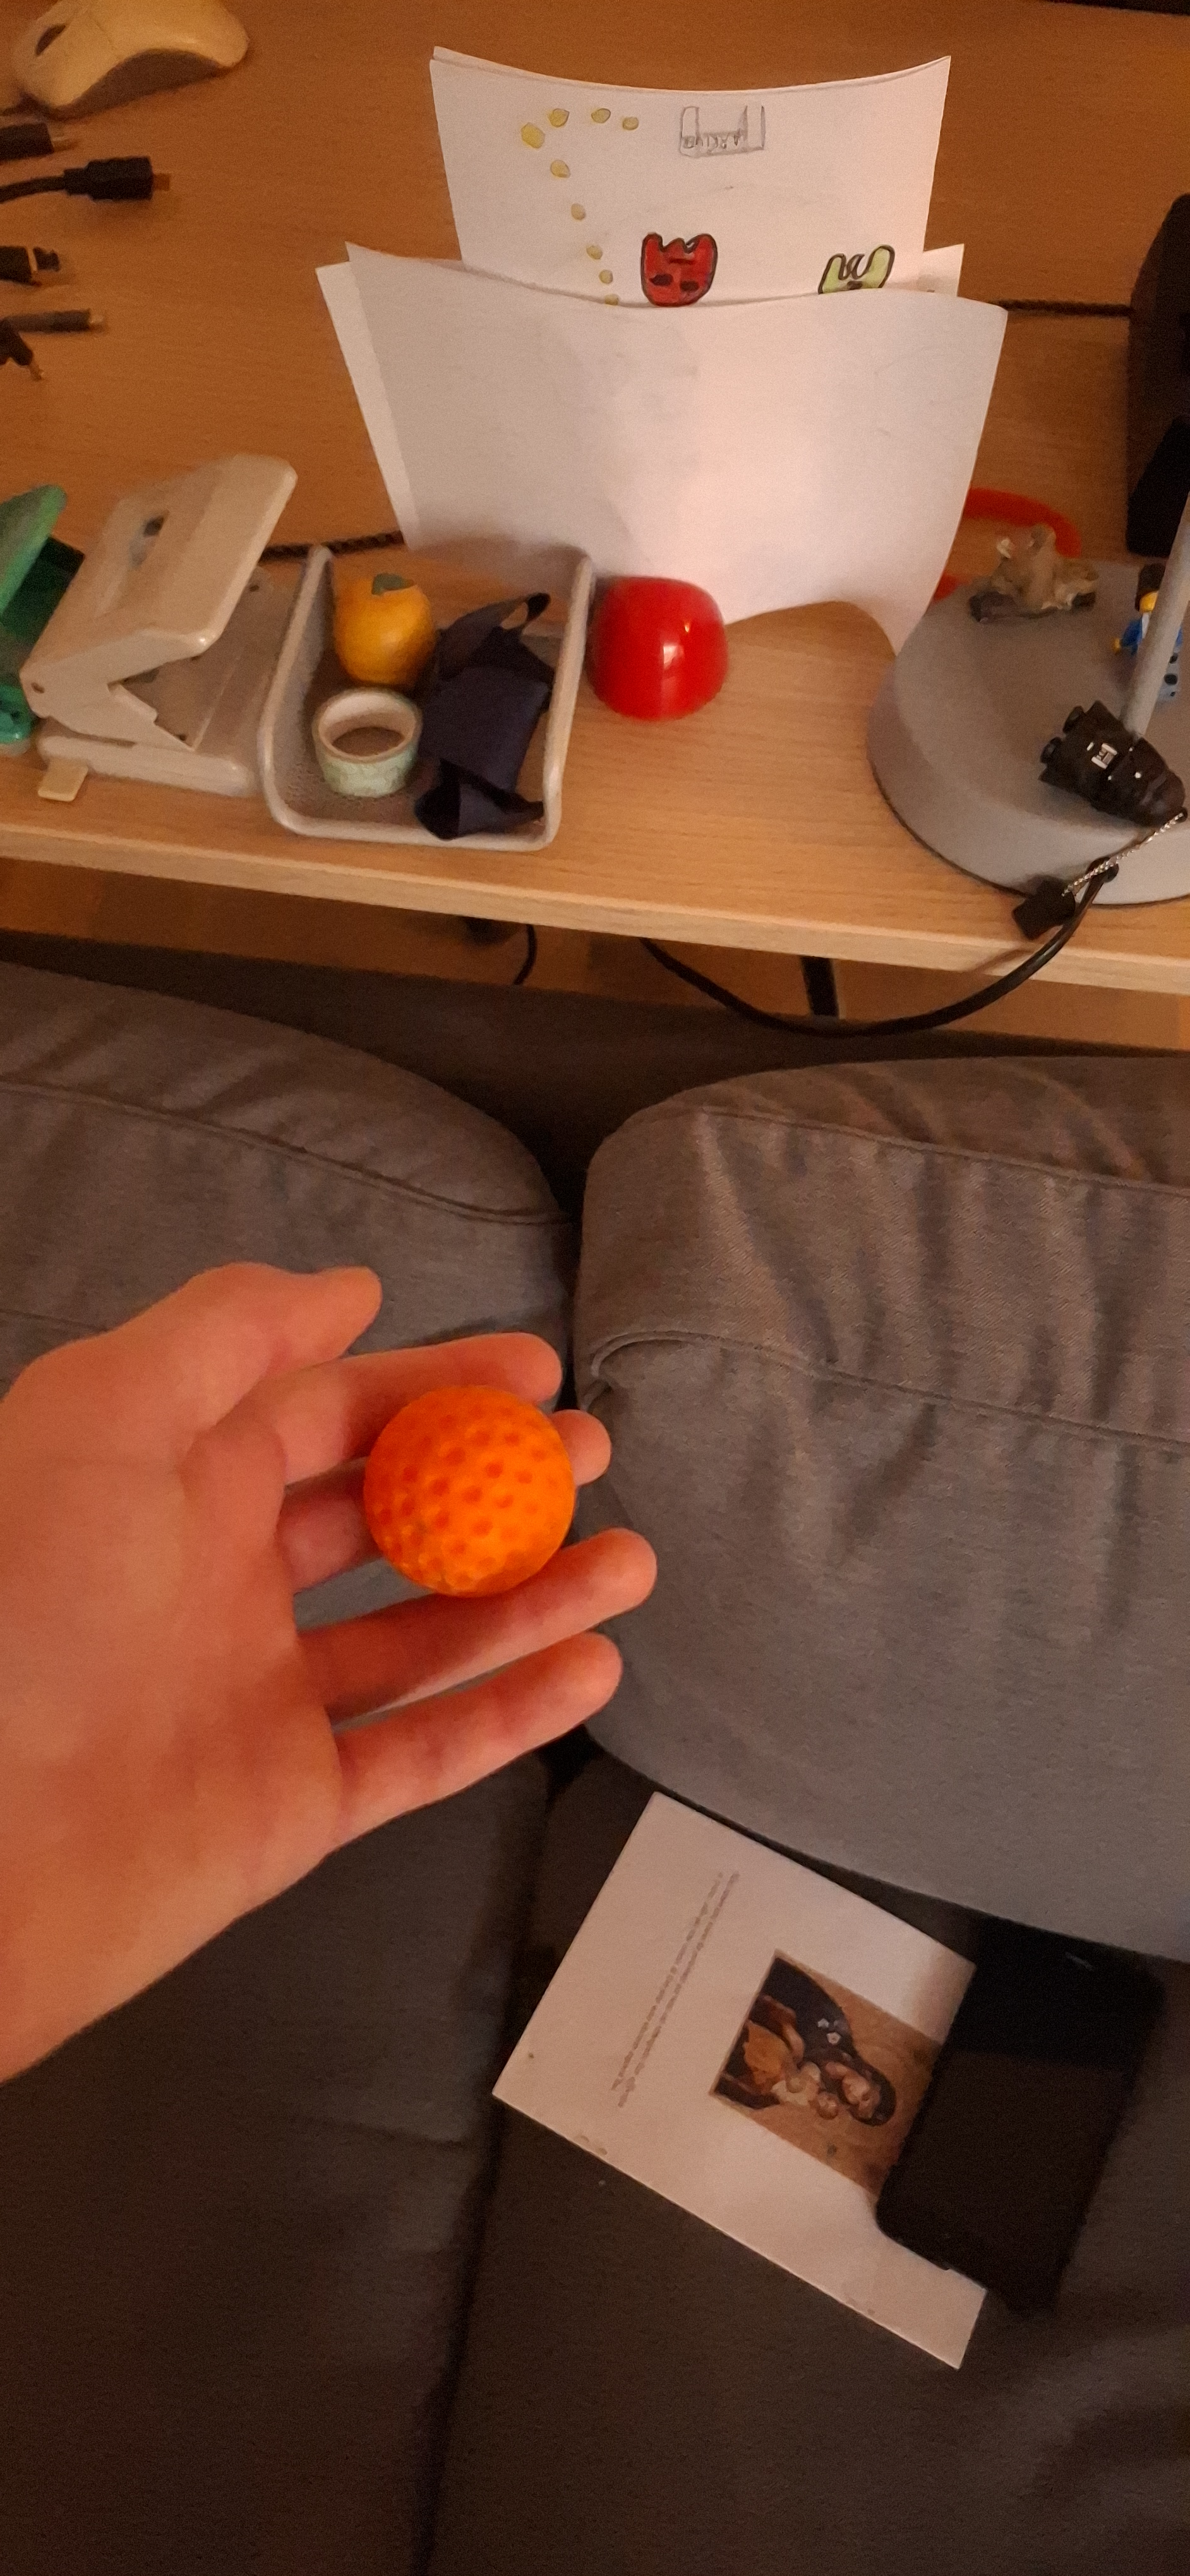ball: (639, 1331, 738, 1796)
